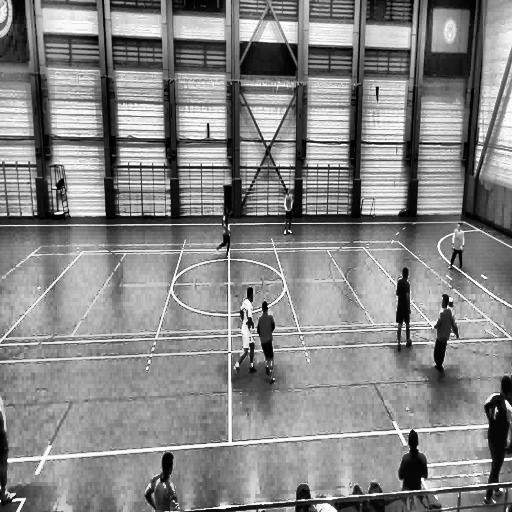ball: (447, 295, 455, 309)
player: (483, 377, 512, 504), (431, 294, 458, 380), (146, 452, 180, 512), (234, 286, 257, 374), (258, 300, 275, 386), (396, 264, 413, 347), (447, 224, 464, 272), (216, 207, 232, 257), (284, 189, 294, 237)
